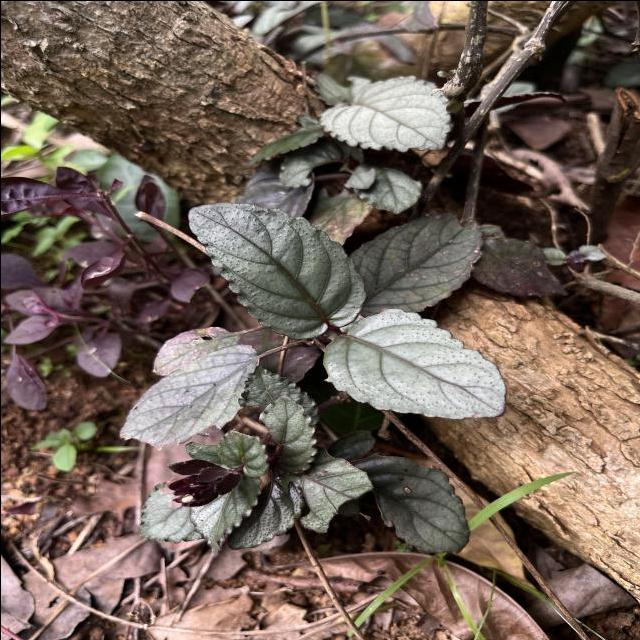Hemigraphis colorata: (183, 198, 370, 342), (320, 304, 510, 422), (114, 339, 260, 452), (344, 208, 484, 314), (315, 71, 455, 153)
